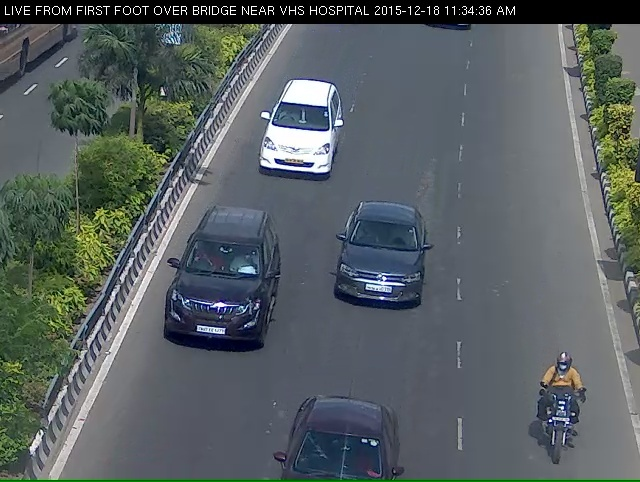Car: (161, 227, 278, 388), (317, 212, 440, 337), (242, 90, 335, 204)
Person: (540, 375, 590, 482)
